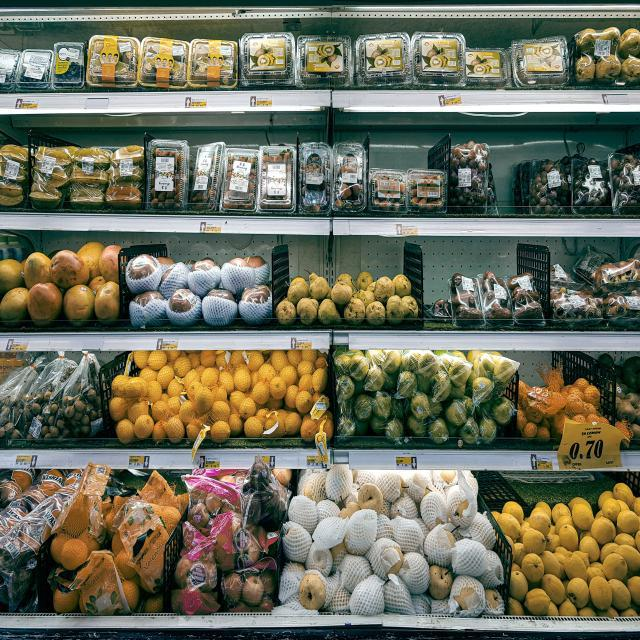Imprecise: (462, 34, 516, 86)
